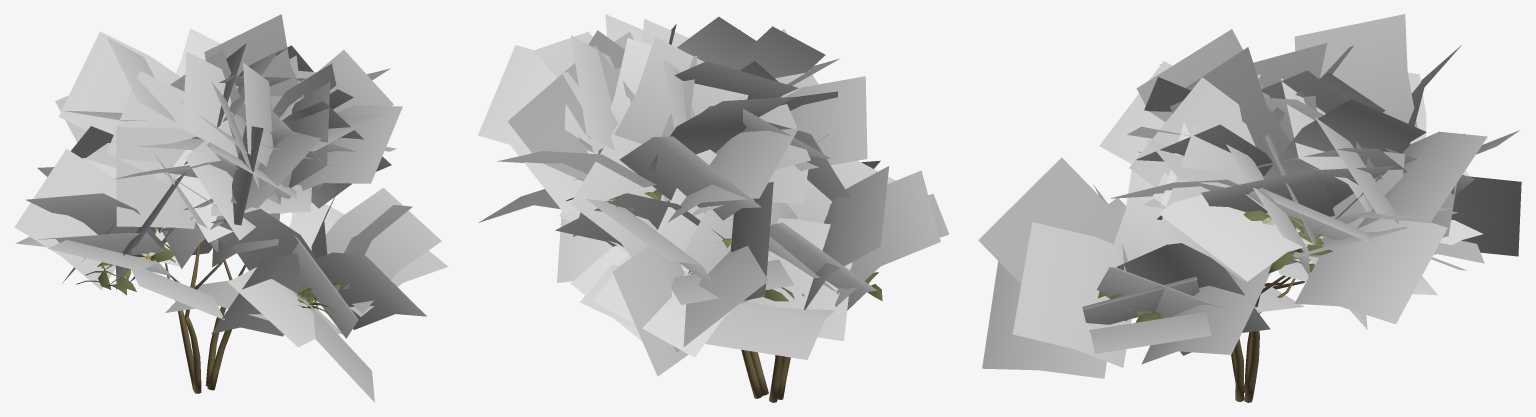
The model's file is Ciste_Jeune_LOD0.fbx.
3 renders of one model, left to right at view 1: azimuth 30°, elevation 25°; view 2: azimuth 150°, elevation 25°; view 3: azimuth 270°, elevation 25°, orthographic. The views are drawn at different scales.
Parts seen in each view (by area): view 1: Ciste_Jeune; view 2: Ciste_Jeune; view 3: Ciste_Jeune.
Part boxes in pixels (<box>): Ciste_Jeune: <box>14,14,448,402</box>; Ciste_Jeune: <box>478,14,949,402</box>; Ciste_Jeune: <box>978,14,1521,402</box>.
Bounding box in the file's own units: 99.63 × 83.71 × 110.
